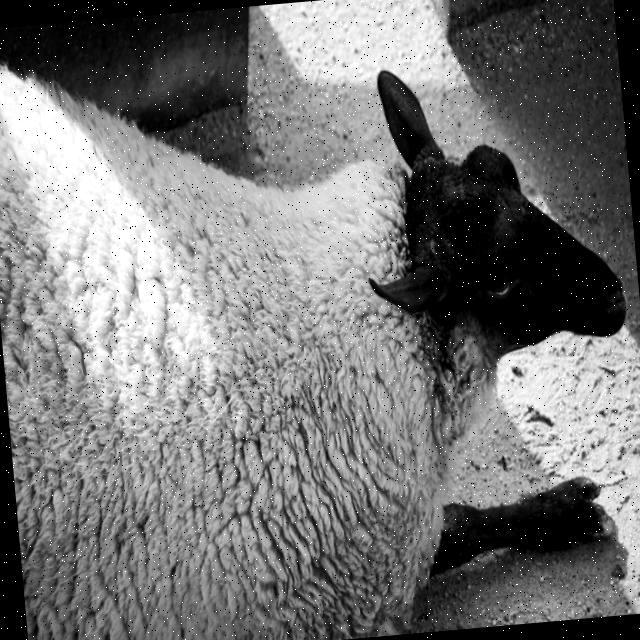sheep: (0, 60, 632, 640)
